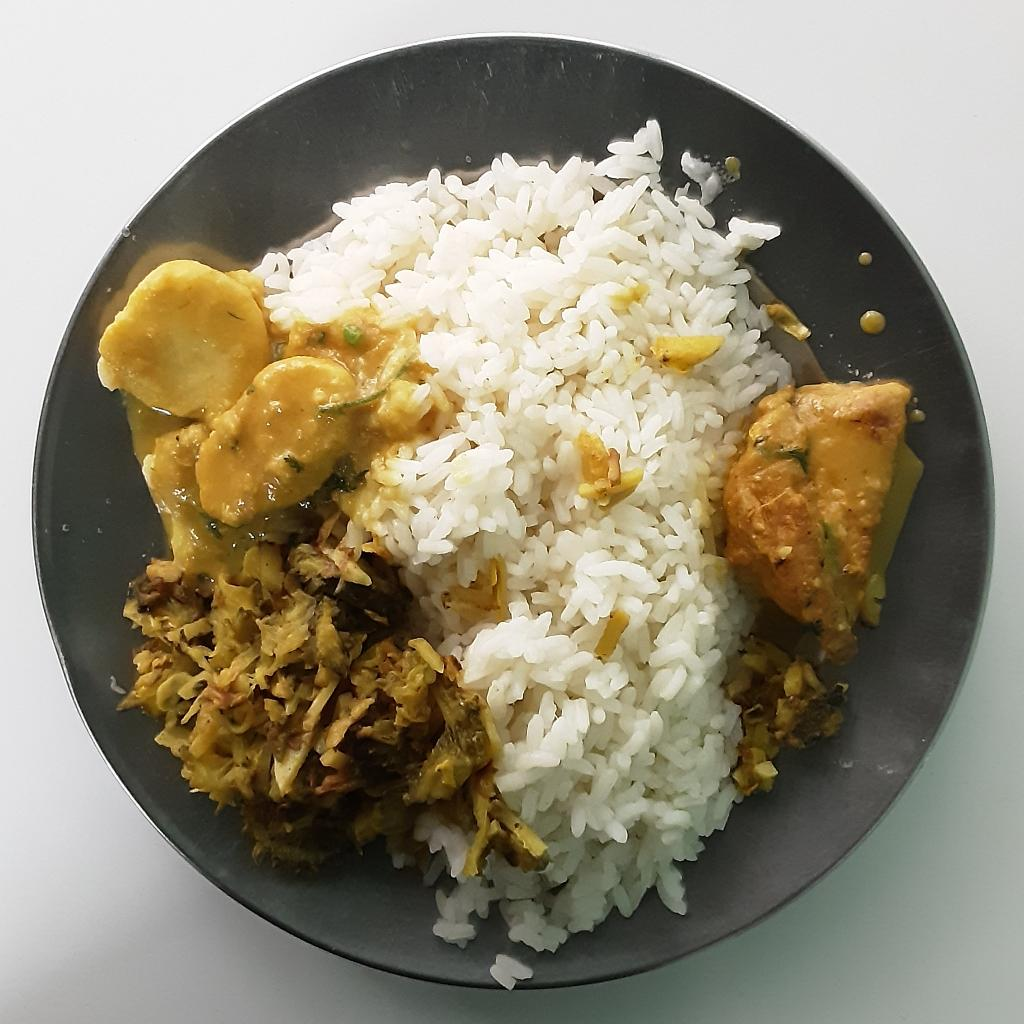fish: (724, 379, 924, 665)
kochu: (90, 263, 439, 568)
korola-vaji: (110, 505, 540, 881), (725, 634, 847, 800)
rice: (253, 116, 789, 998)
